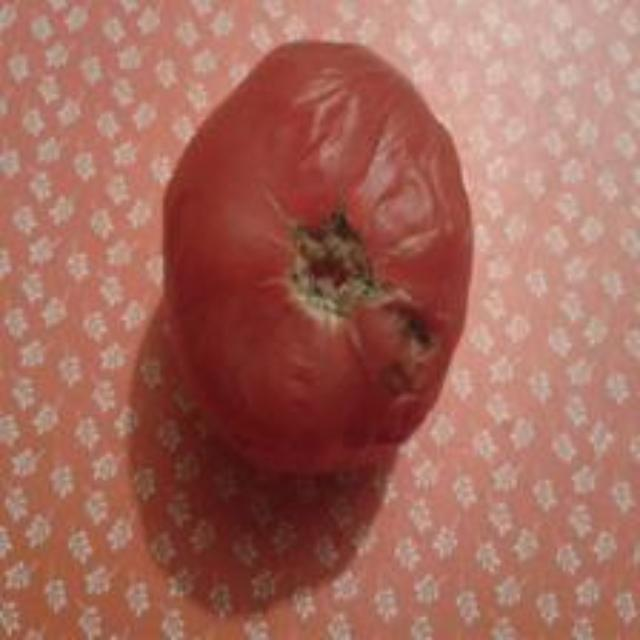defect: (148, 35, 497, 487)
